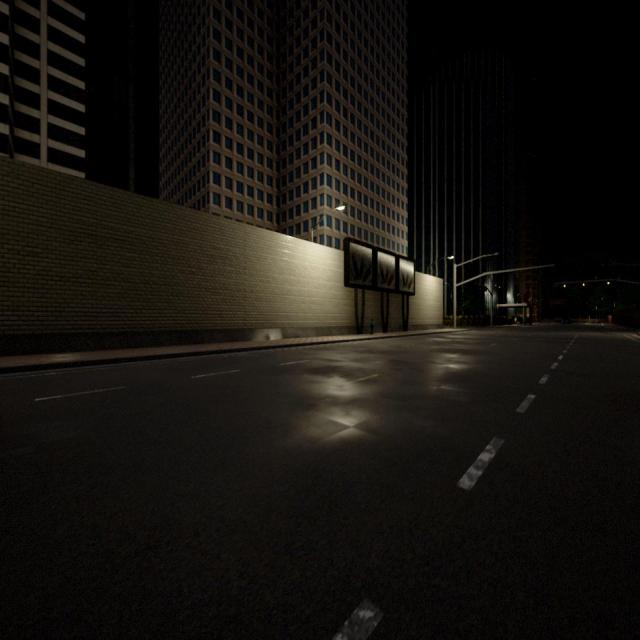Pedestrian: (369, 317, 375, 335)
traffic_light: (563, 282, 566, 291), (582, 281, 585, 289), (607, 279, 610, 287)
